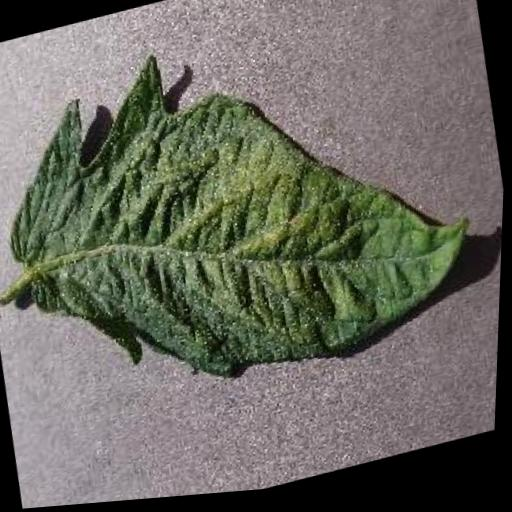Spider Mites: (0, 0, 494, 431)
